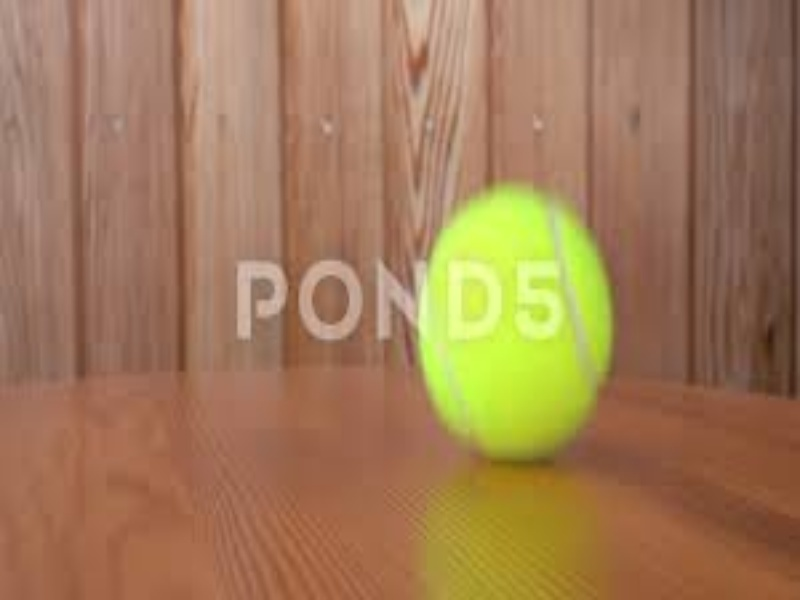tennis ball: (418, 180, 620, 480)
